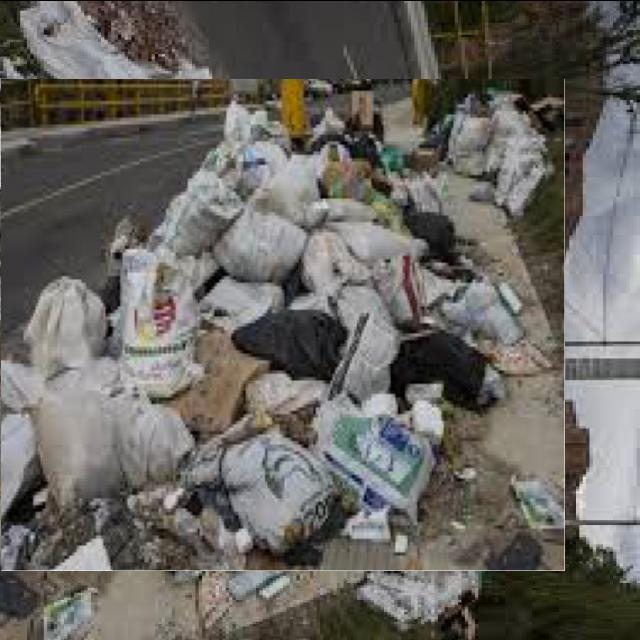Trashbag: (242, 302, 341, 376), (406, 336, 482, 392)
